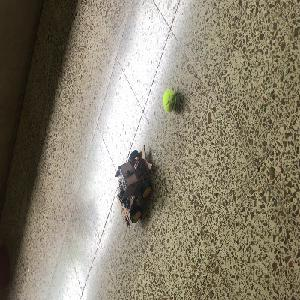Ball: (162, 88, 176, 112)
Robot: (115, 145, 153, 224)
